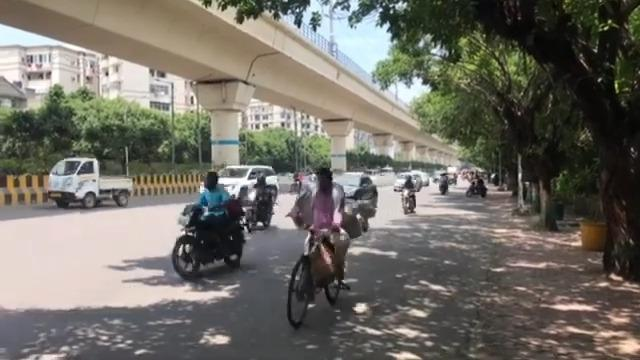Bike: (285, 164, 351, 329), (171, 172, 247, 280), (249, 170, 276, 228), (396, 175, 418, 214), (465, 175, 490, 198), (434, 169, 450, 195)
Truck: (46, 154, 134, 209)
